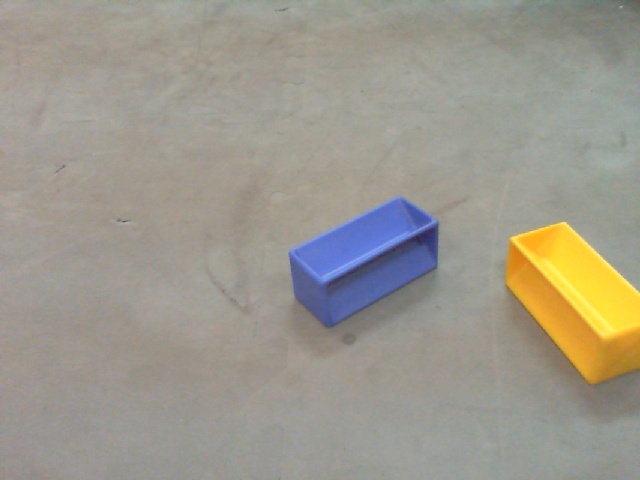BlueSample: (274, 194, 442, 330)
YellowSample: (499, 219, 640, 386)
